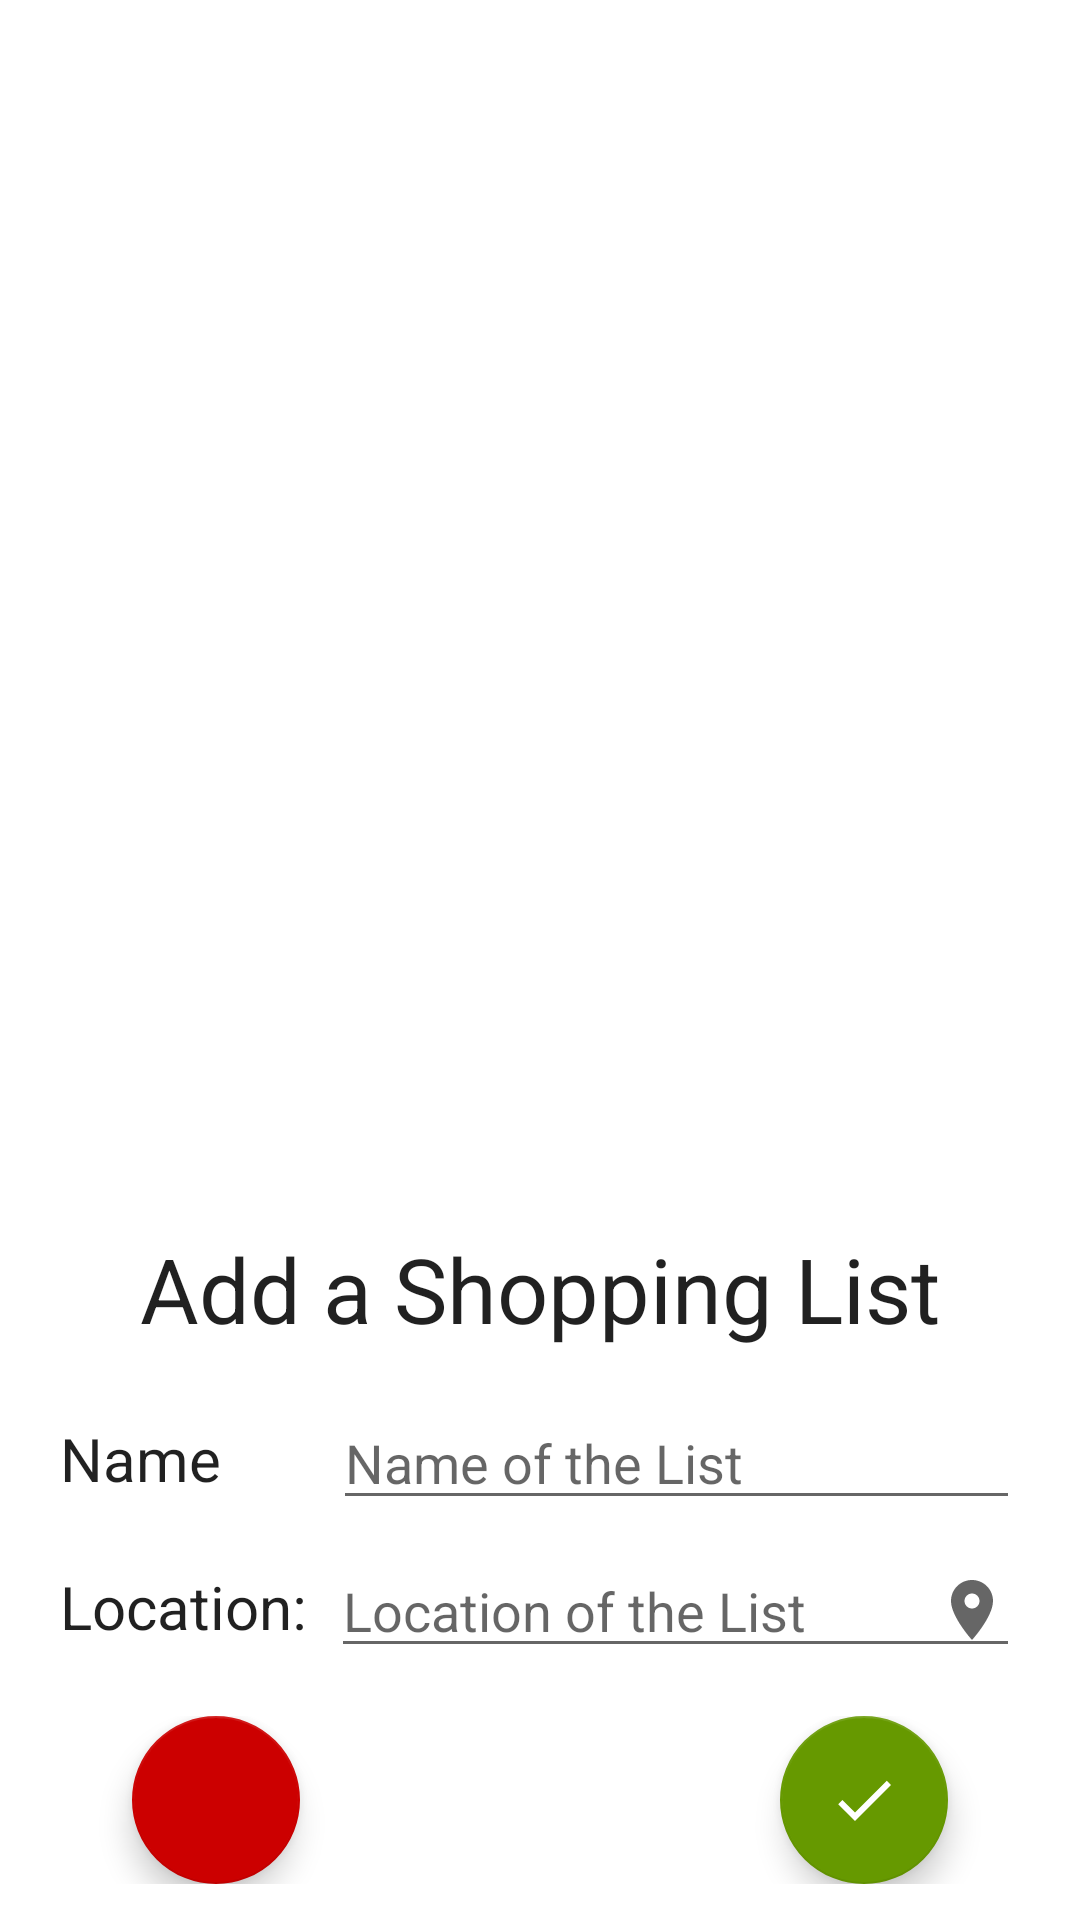

Named icons in this screenshot (1080×1920) and their bounding boxes, (x1, y1, x2, y2):
Button Done: (780, 1716, 948, 1884)
